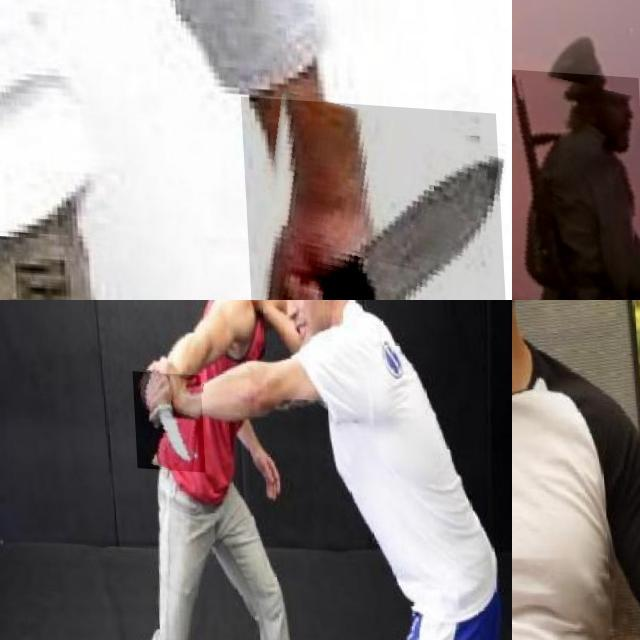-: (238, 93, 506, 300), (130, 368, 202, 469), (512, 300, 593, 368)
gun-knife-thesis - v11 Yolov5 augmented: (512, 63, 640, 300)
